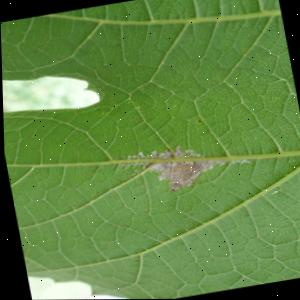Folha: (0, 0, 300, 300)
Fungo: (116, 134, 253, 200)
